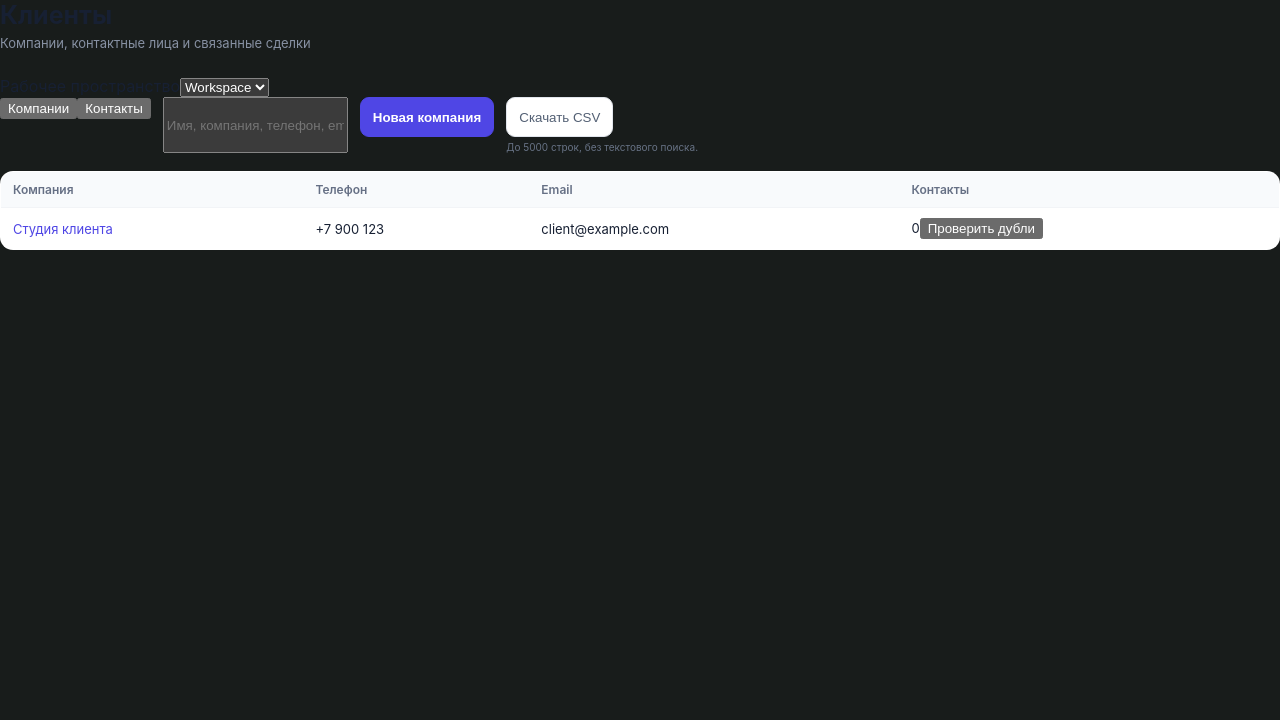
Test: preserves a failed company draft and creates it after retry
Expected: the button "Студия клиента" is shown, x1=13 y1=220 x2=113 y2=236
Step 1. Click the button "Новая компания" → [427, 117], box x1=360 y1=97 x2=494 y2=137
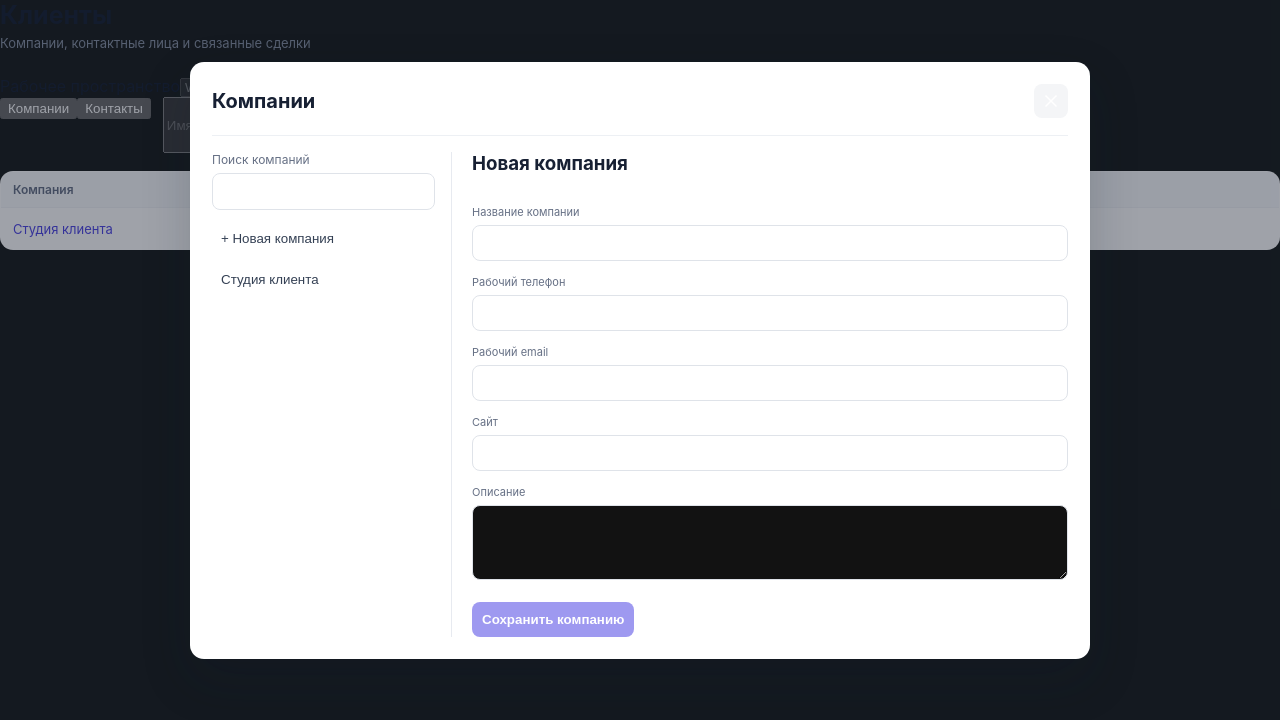
Step 2. Type "Новая компания клиента" into the field labelled "Название компании" → [770, 242], box x1=472 y1=224 x2=1068 y2=260
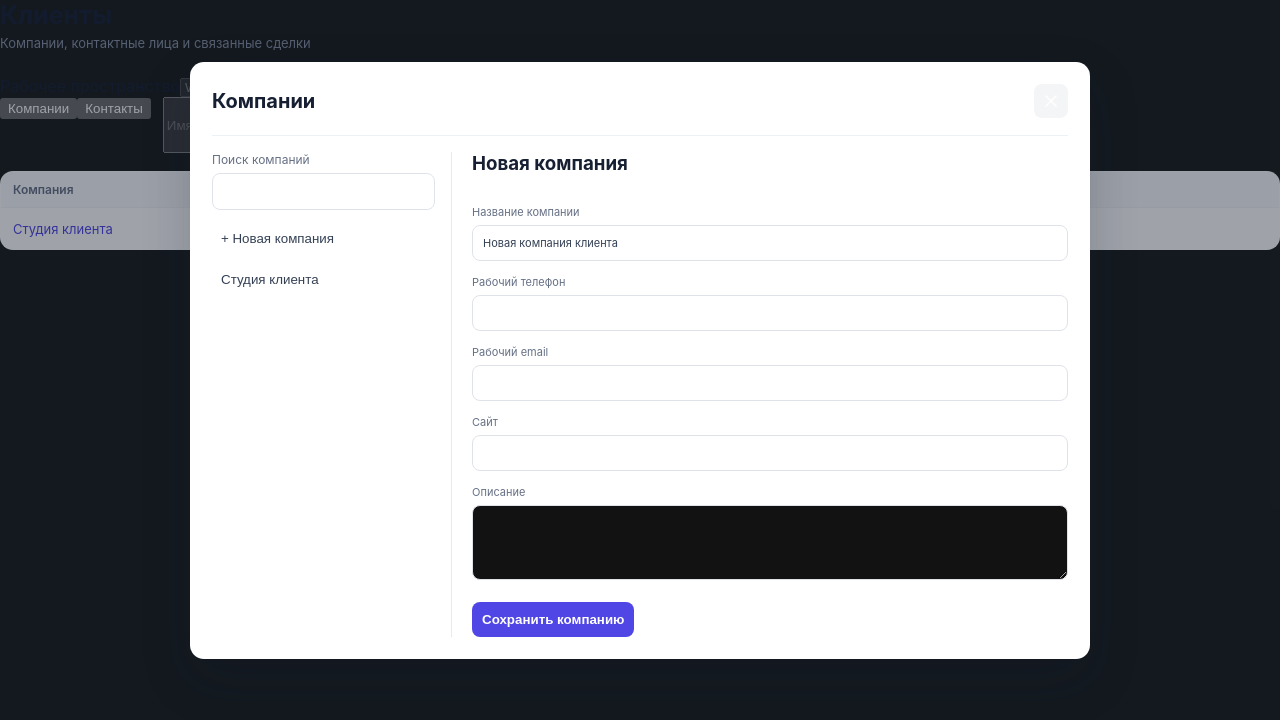
Step 3. Click the button "Сохранить компанию" → [553, 619], box x1=472 y1=602 x2=634 y2=636
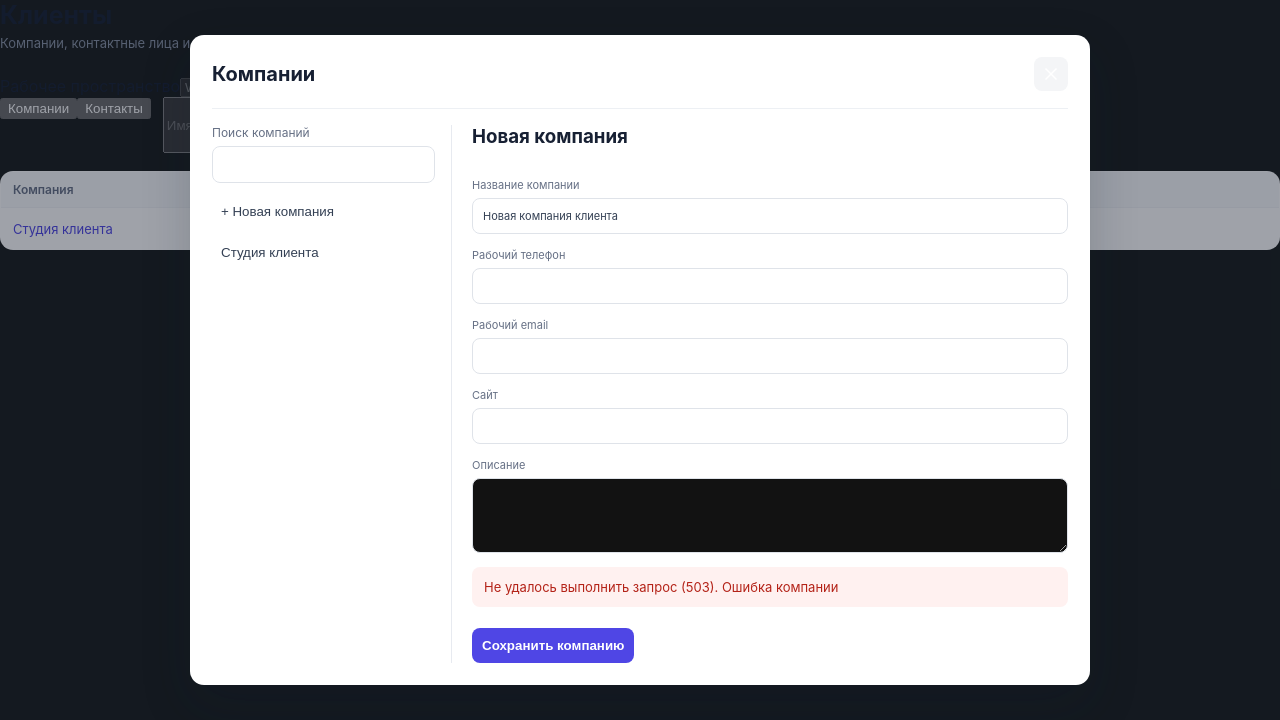
Expected: the message shows "Ошибка компании", x1=484 y1=579 x2=838 y2=595
Step 4. Click the button "Сохранить компанию" → [553, 646], box x1=472 y1=628 x2=634 y2=663
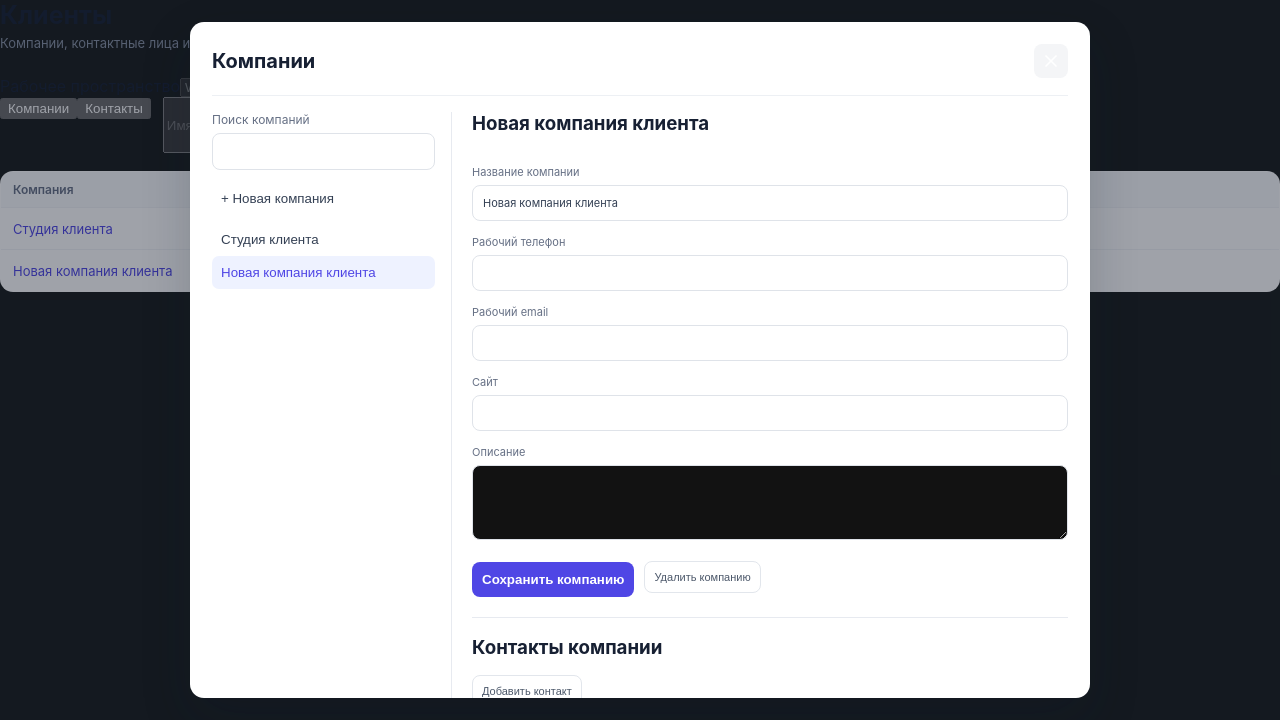
Expected: the button "Новая компания клиента" is shown, x1=212 y1=256 x2=435 y2=289
